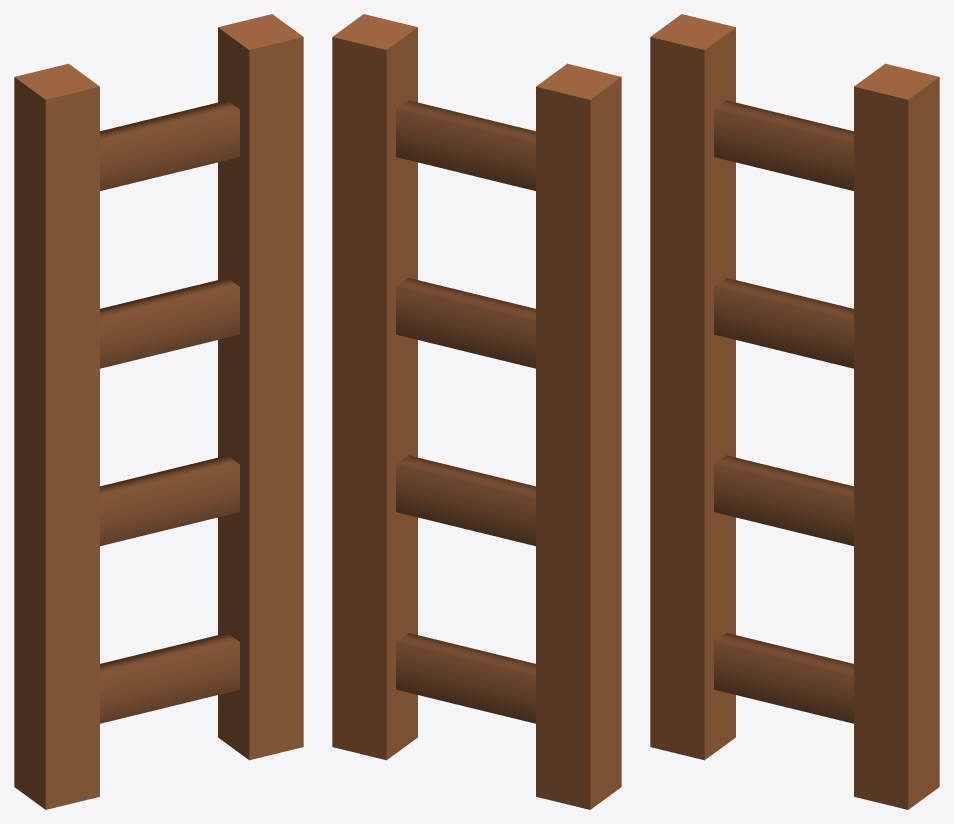
Rendered from ladder.glb.
3 renders of one model, left to right at view 1: azimuth 30°, elevation 25°; view 2: azimuth 150°, elevation 25°; view 3: azimuth 330°, elevation 25°, orthographic.
Visible parts, largest first — view 1: ladder; view 2: ladder; view 3: ladder.
Part boxes in pixels (box(x1,y1,x2,y2)): ladder: box(14, 14, 303, 809); ladder: box(332, 14, 621, 809); ladder: box(650, 14, 939, 809).
Size of the model in its own units: 0.38 by 1 by 0.08.
